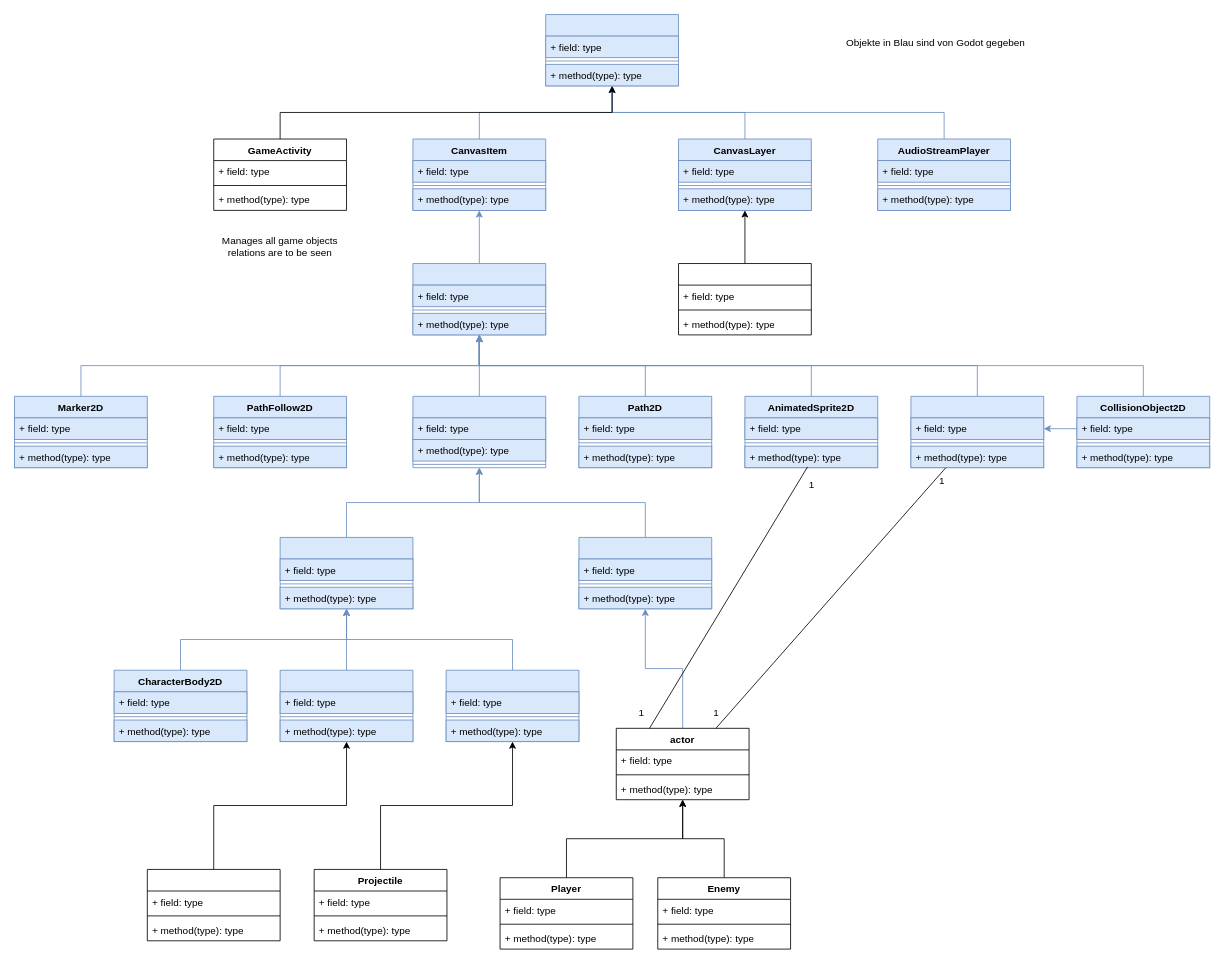
Some shapes in this 1224 by 966 pixel diagram are drawn without their labels. Here are the shapes that lost their labels. From the top down, the box of each, then its label:
(545, 14, 679, 86): Node
(412, 263, 546, 335): Node2D
(678, 263, 811, 335): HUD
(412, 395, 546, 468): CollisionBody2D
(910, 395, 1044, 468): CollisionShape2D
(279, 537, 413, 609): PhysicsBody2D
(578, 537, 712, 609): Area2D
(279, 669, 413, 742): StaticBody2D
(445, 669, 579, 742): RigidBody2D
(146, 869, 280, 941): Collectible
